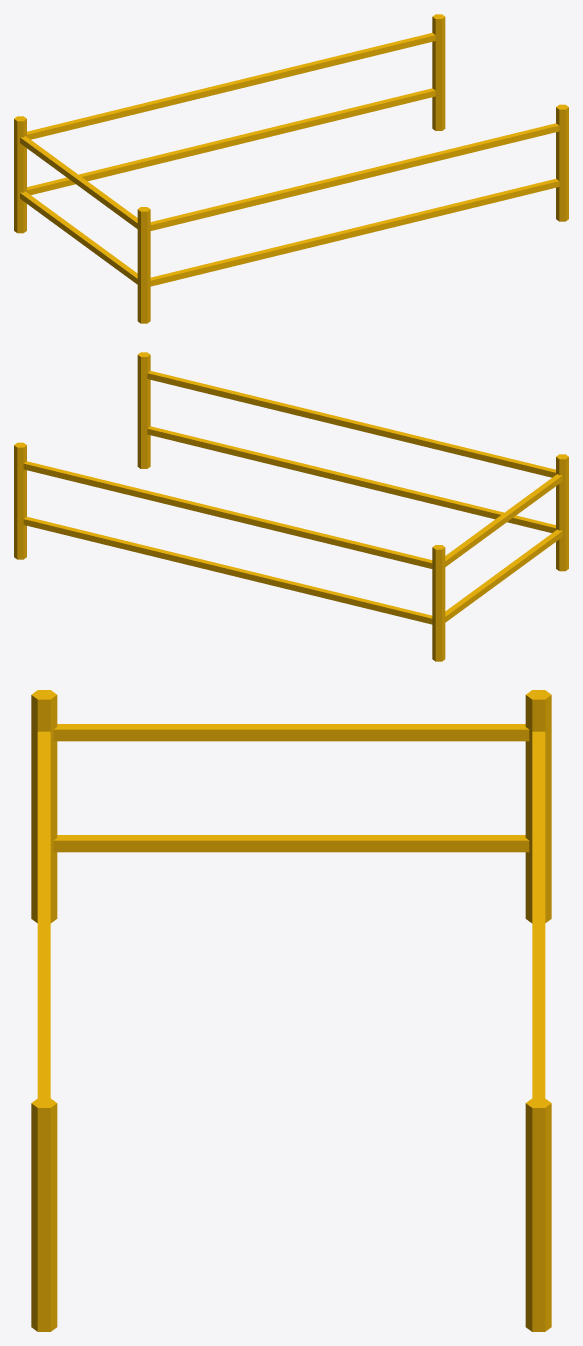
Rendered from Scaffold_Rails_3_Yellow_01.FBX.
3 renders of one model, top to bottom at view 1: azimuth 30°, elevation 25°; view 2: azimuth 150°, elevation 25°; view 3: azimuth 270°, elevation 25°, orthographic. The views are drawn at different scales.
Parts seen in each view (by area): view 1: Scaffold_Rails_3_Yellow_01; view 2: Scaffold_Rails_3_Yellow_01; view 3: Scaffold_Rails_3_Yellow_01.
Part boxes in pixels (left/top/right/bottom): Scaffold_Rails_3_Yellow_01: left=14, top=14, right=568, bottom=323; Scaffold_Rails_3_Yellow_01: left=14, top=352, right=568, bottom=661; Scaffold_Rails_3_Yellow_01: left=31, top=690, right=551, bottom=1331.
Size of the model in its own units: 7260 by 1815 by 3821.
